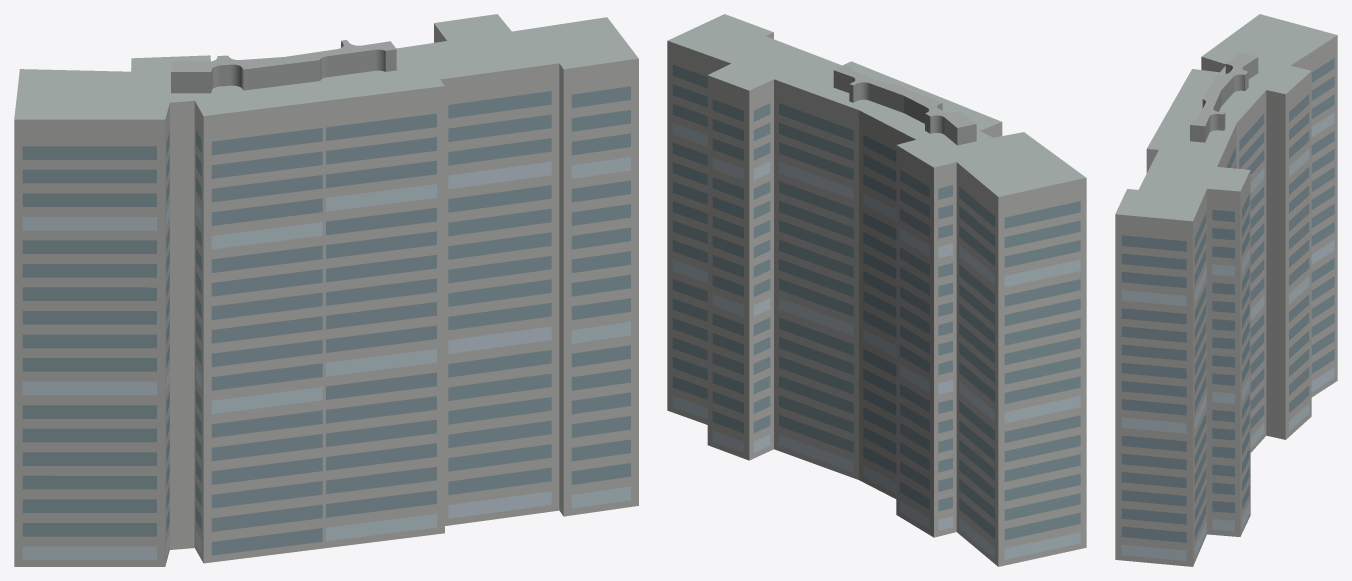
The model's file is fallback-lake-palace-124.glb.
3 renders of one model, left to right at view 1: azimuth 30°, elevation 25°; view 2: azimuth 150°, elevation 25°; view 3: azimuth 270°, elevation 25°, orthographic. The views are drawn at different scales.
Visible parts, largest first — view 1: fallback-lake-palace-124; view 2: fallback-lake-palace-124; view 3: fallback-lake-palace-124.
Boxes of the visible parts, box(x1,y1,x2,y2) form: fallback-lake-palace-124: box(14, 14, 638, 566); fallback-lake-palace-124: box(667, 14, 1086, 566); fallback-lake-palace-124: box(1115, 14, 1337, 566).
Size of the model in its own units: 62.65 by 51 by 28.42.
